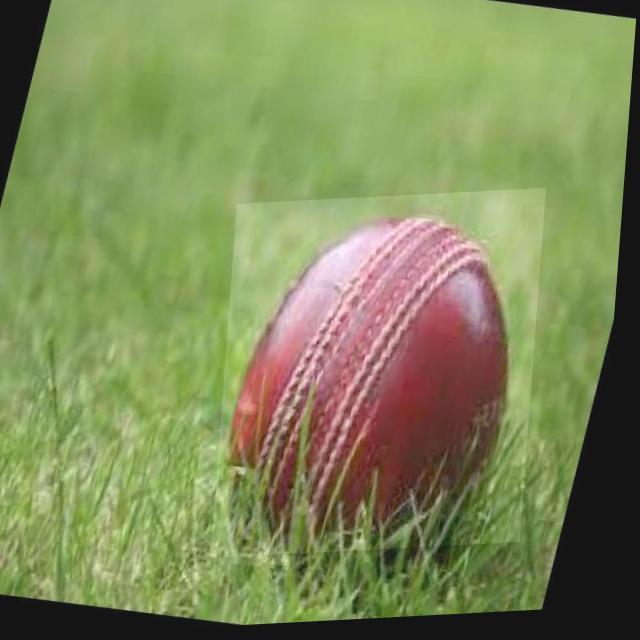-: (220, 194, 550, 561)
